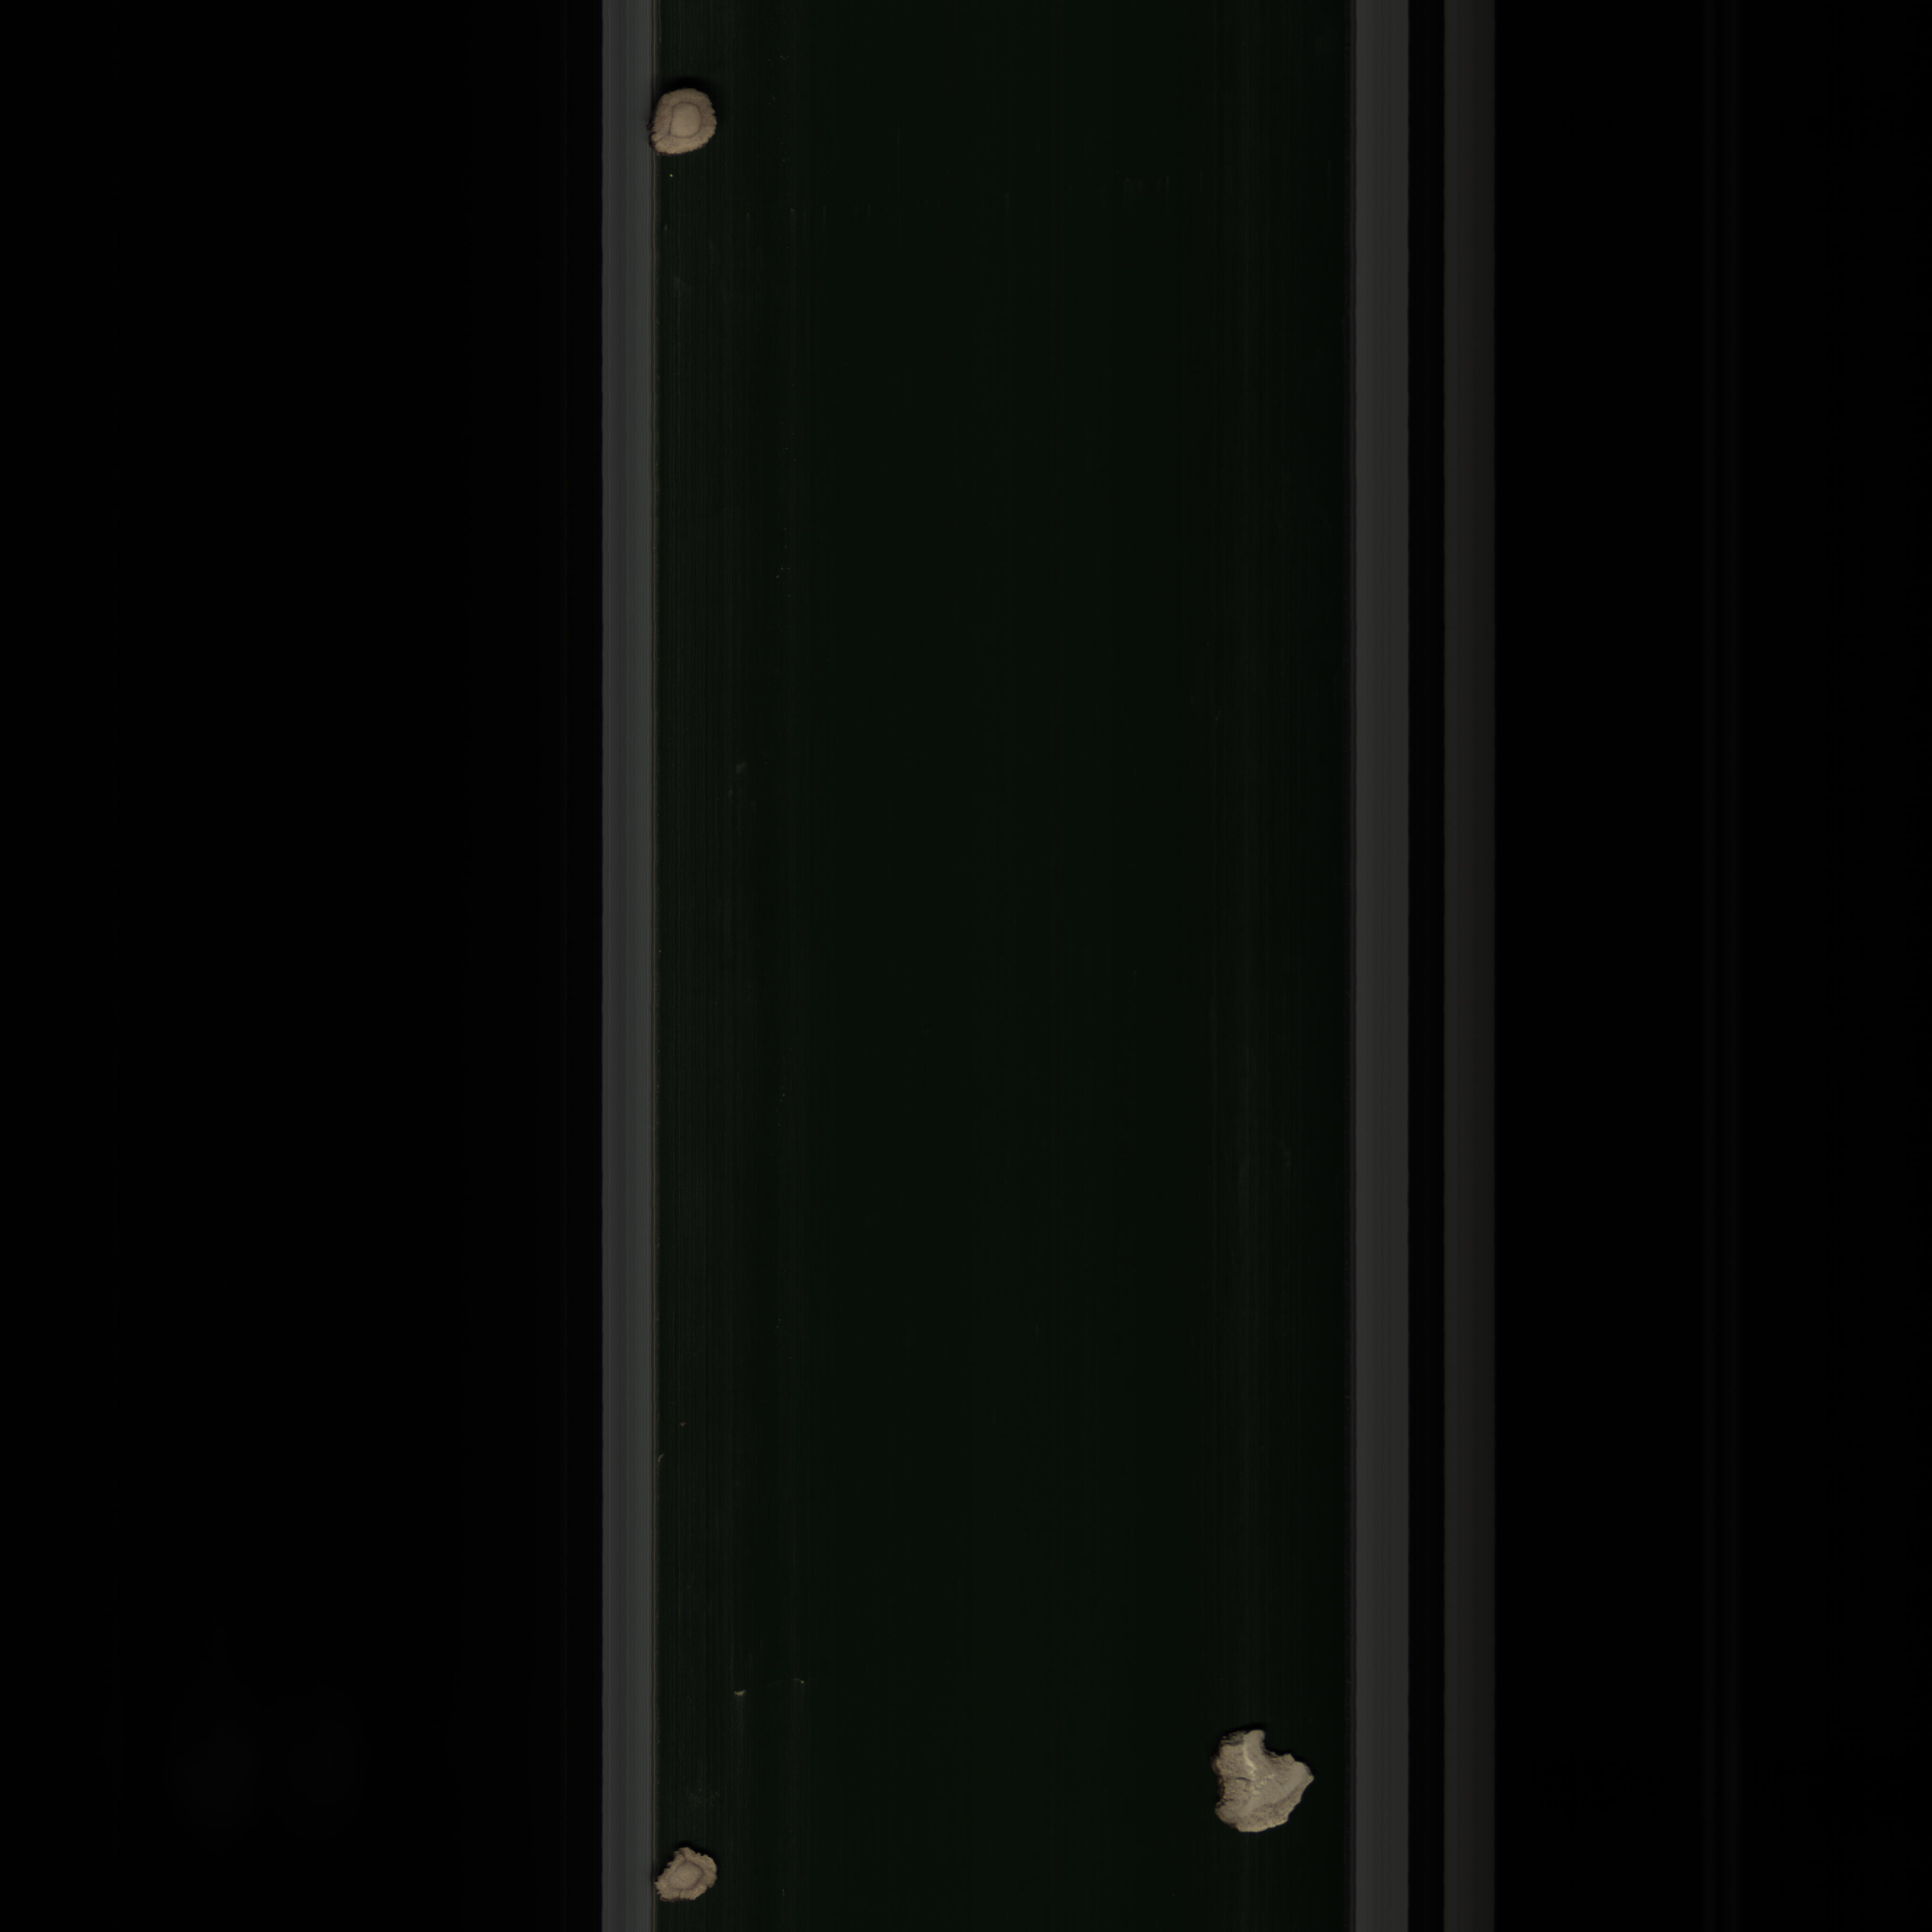debris: (1203, 1727, 1322, 1838)
distortion: (655, 1842, 722, 1909)
